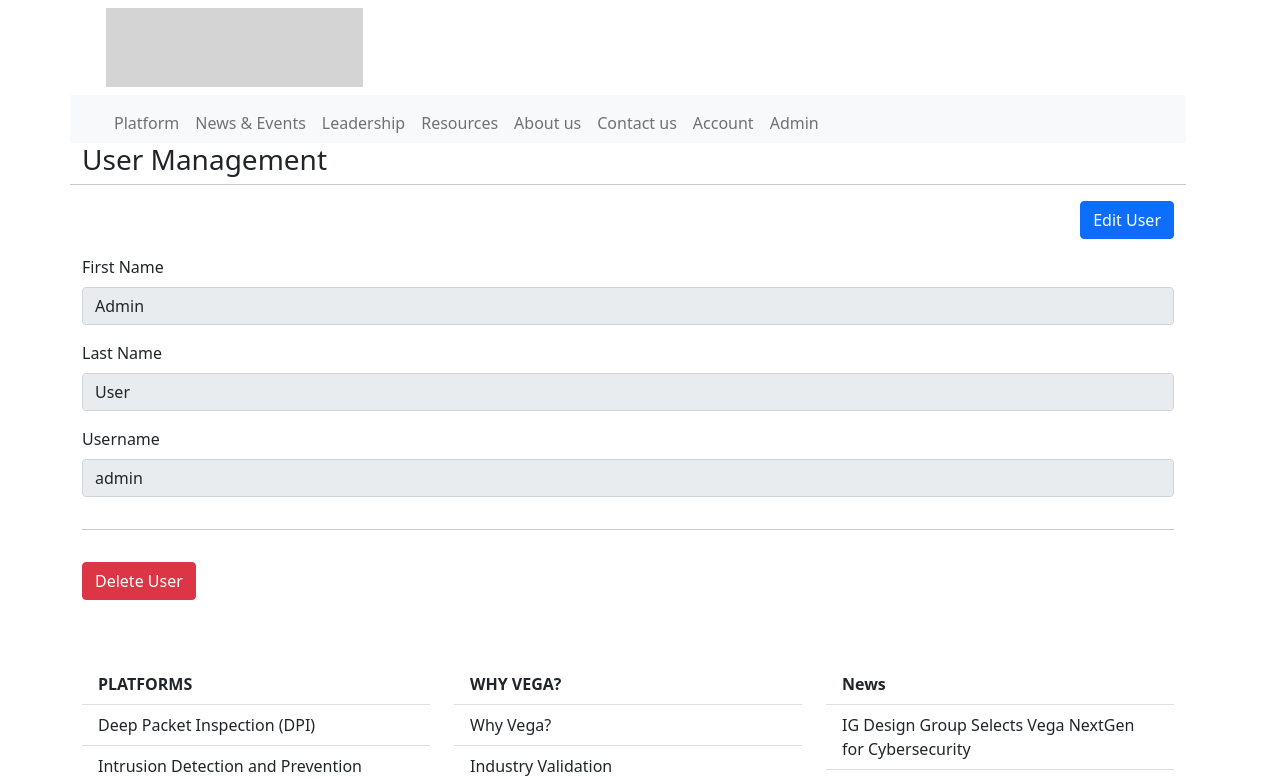
Test: AdminUserManagement › as admin › delete user › displays an error message when deletion is unsuccessful
What coordinates should you click on to do the following:
click the button "Delete User"
I would click on:
 (139, 582)
Its box is x1=82 y1=562 x2=196 y2=600.
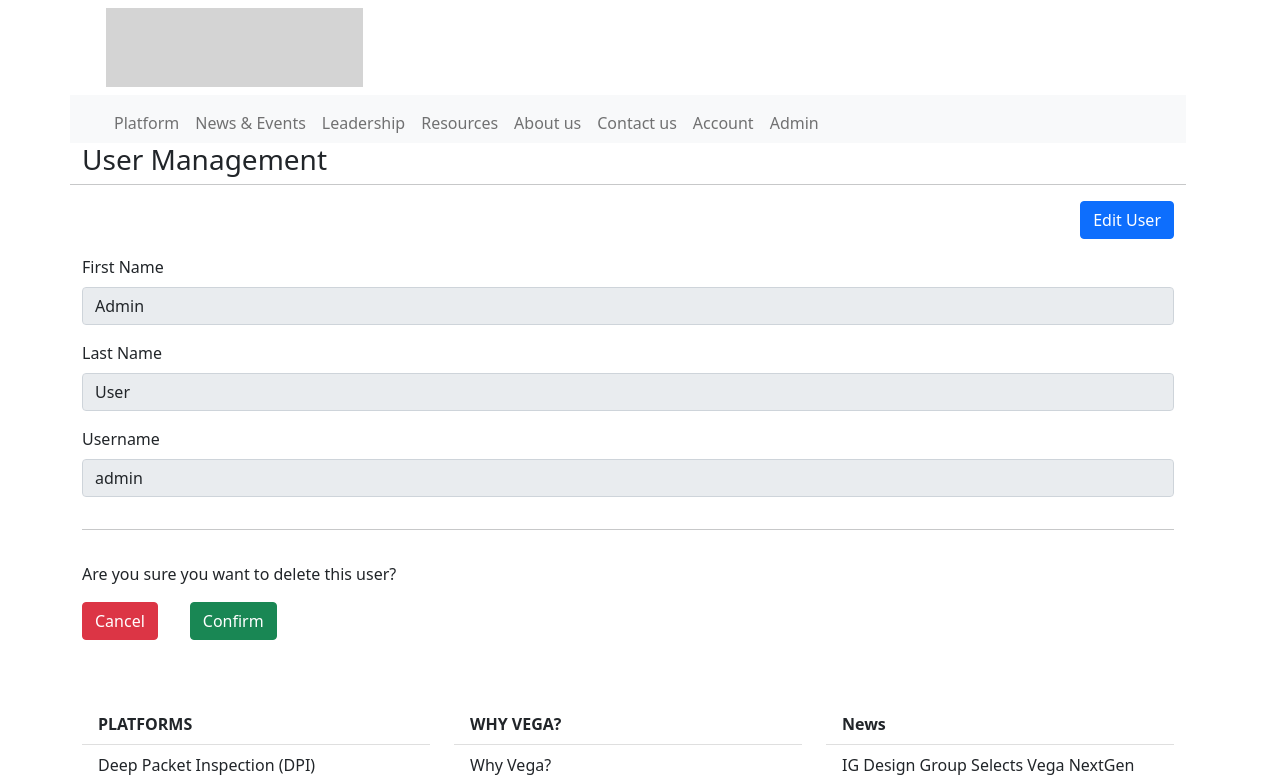
What coordinates should you click on to do the following:
click the button "Confirm"
I would click on:
 (233, 622)
Its box is x1=190 y1=602 x2=277 y2=640.
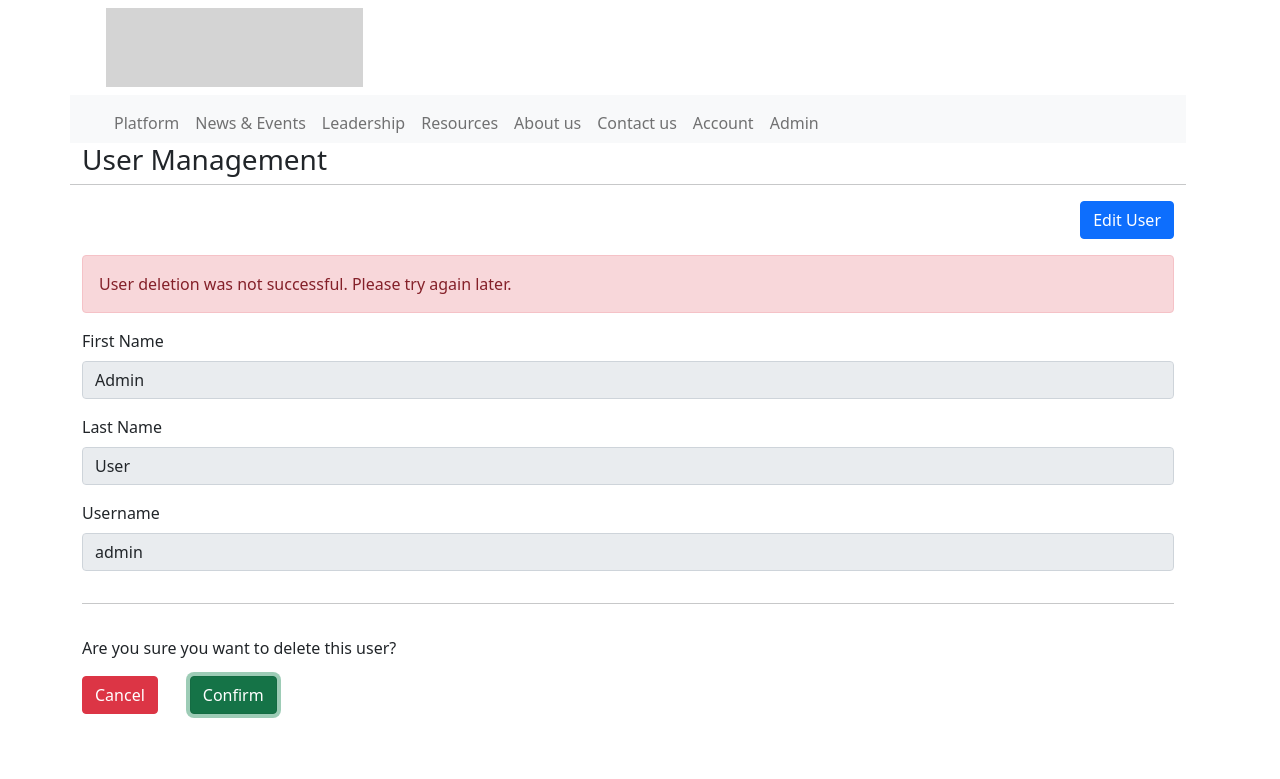
Result: the text "User deletion was not successful. Please try again later." is shown at x1=82 y1=256 x2=1174 y2=314
